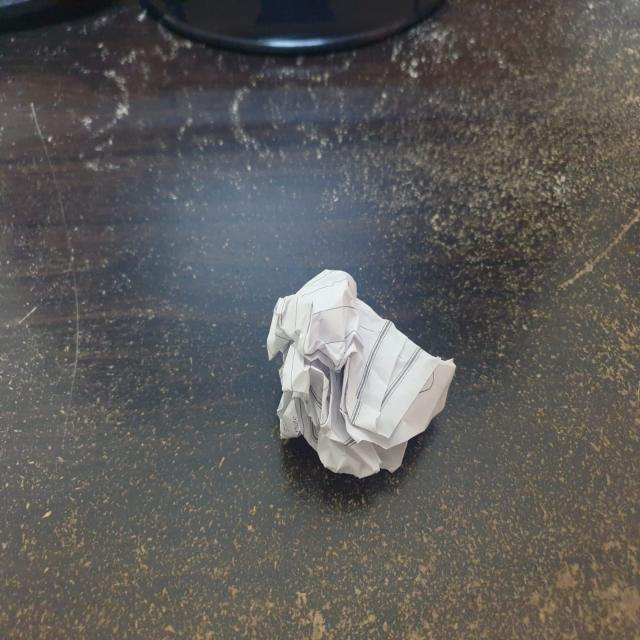Paper: (267, 271, 454, 481)
